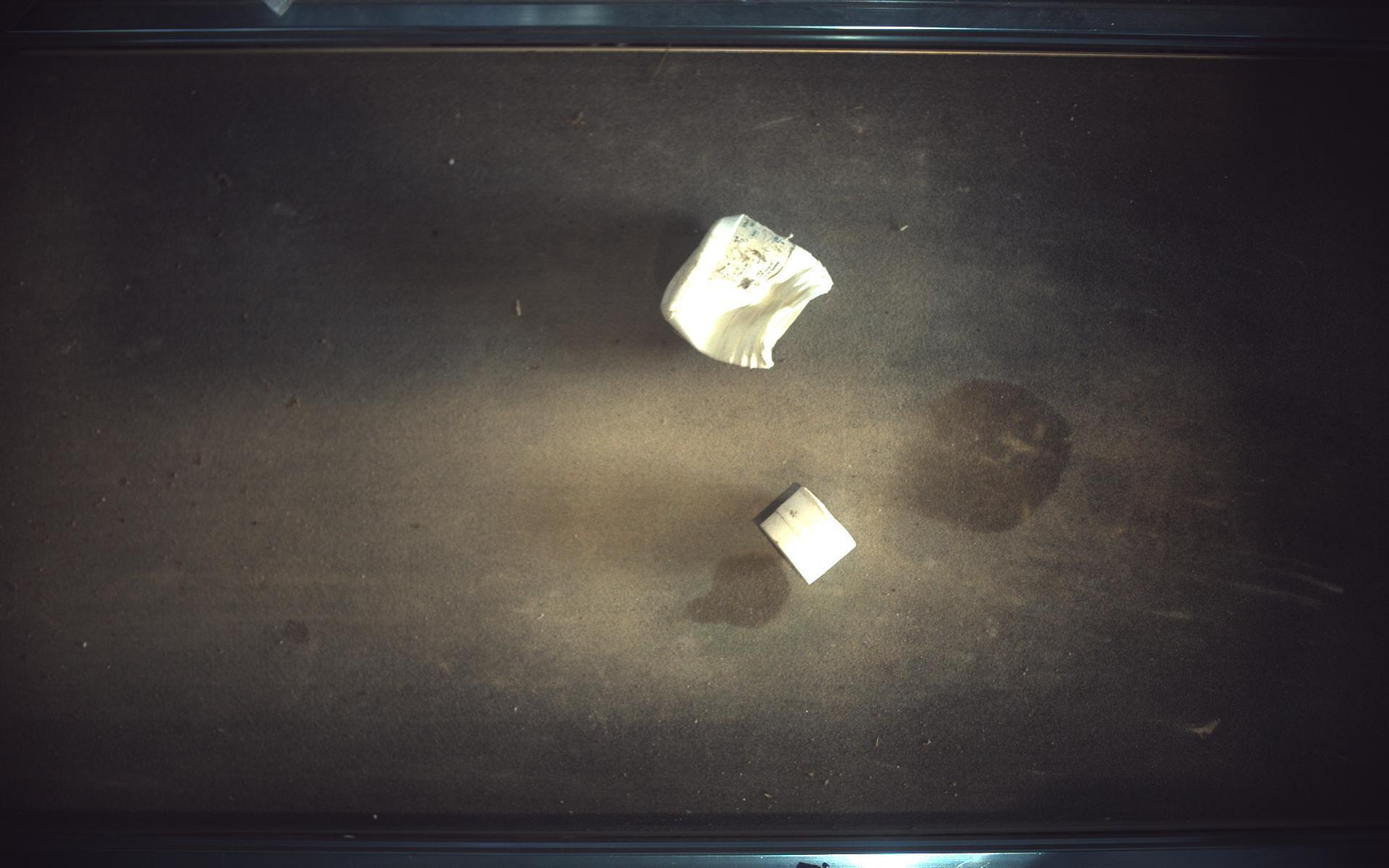general_w: (662, 214, 834, 368), (759, 488, 858, 586)
